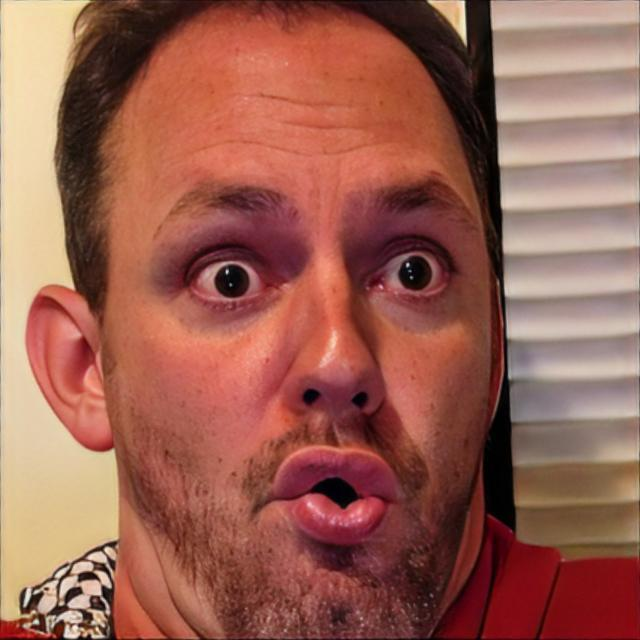surprise: (104, 4, 496, 624)
